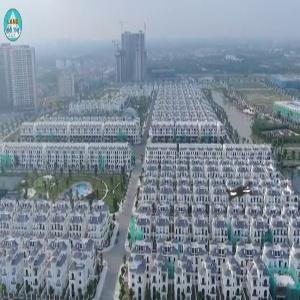drone: (197, 146, 291, 240)
